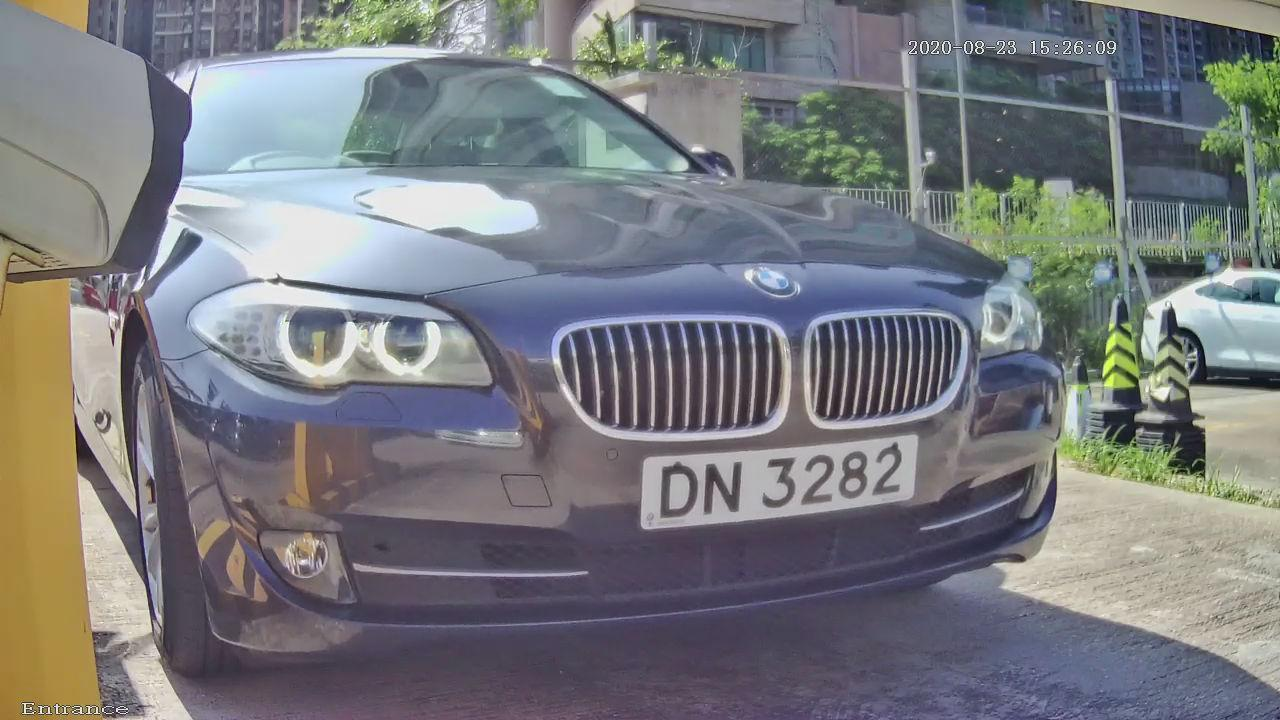Car: (6, 10, 1138, 708)
License Plate: (595, 398, 976, 573)
